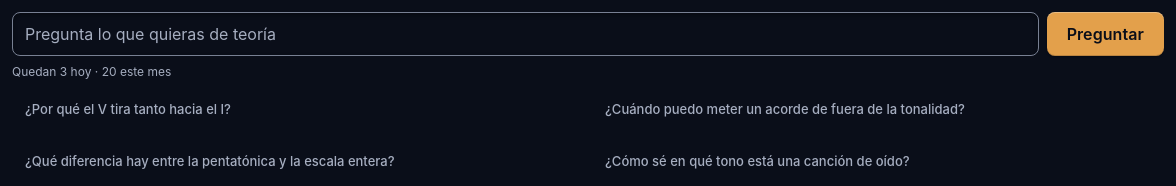
Test: cuando no sale › un modelo caido no ofrece planes: seria vender por una averia nuestra
Type "¿Por qué el V tira al i?" into the field with placeholder "Pregunta lo que quieras de teoría" at {"x": 525, "y": 34}, box [12,12,1039,56]
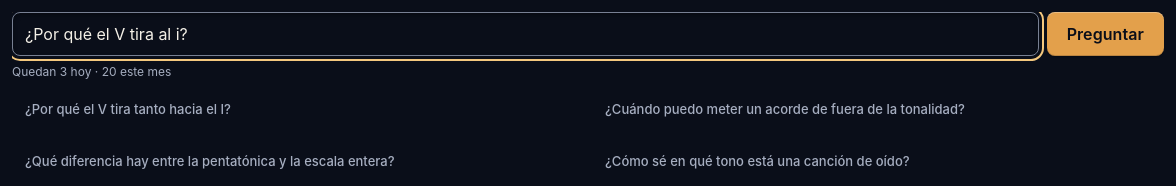
Click the button "Preguntar" at {"x": 1105, "y": 34}, box [1047,12,1164,56]
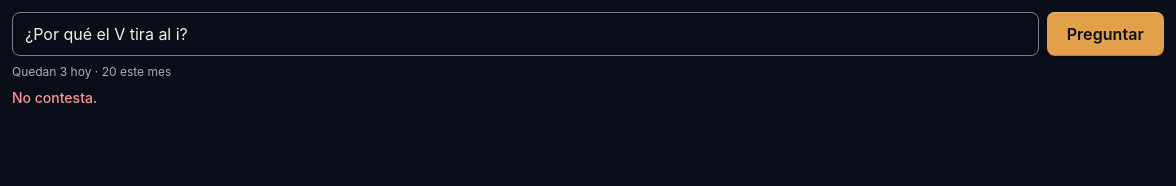
Expected: the message reads "No contesta.", [12,89,97,106]
